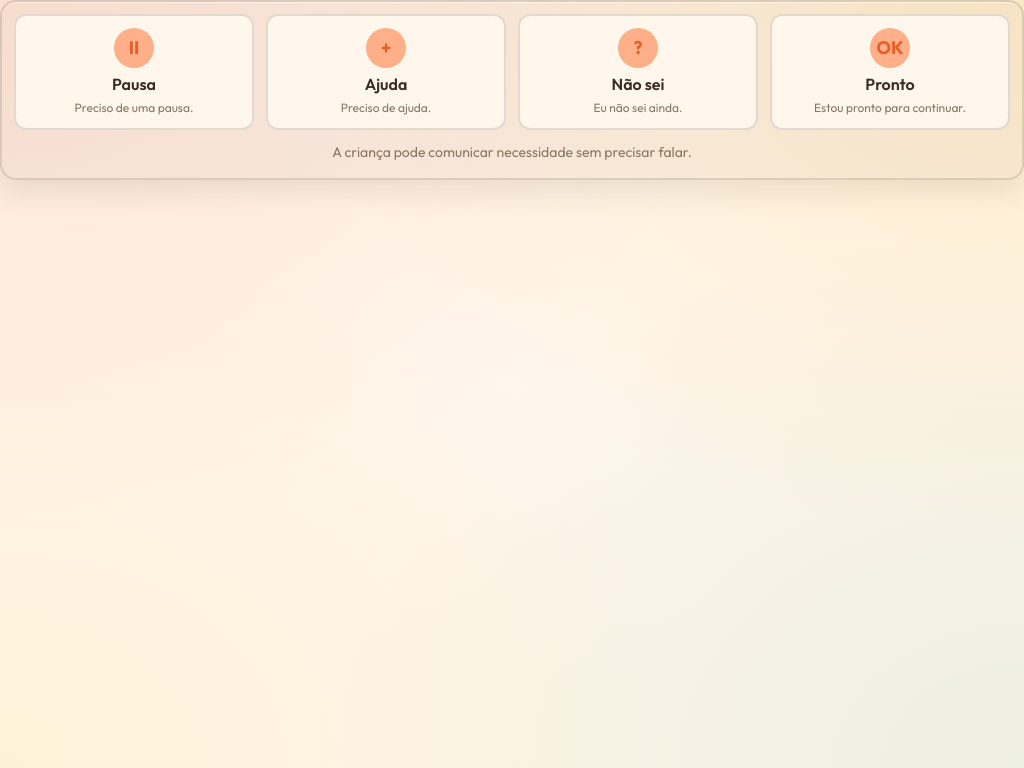
Test: PainelComunicacao › comunica prontidao sem pedir pausa nem ajuda
Click the button named "Pronto. Estou pronto para continuar." at {"x": 890, "y": 72}, box [770,14,1010,130]
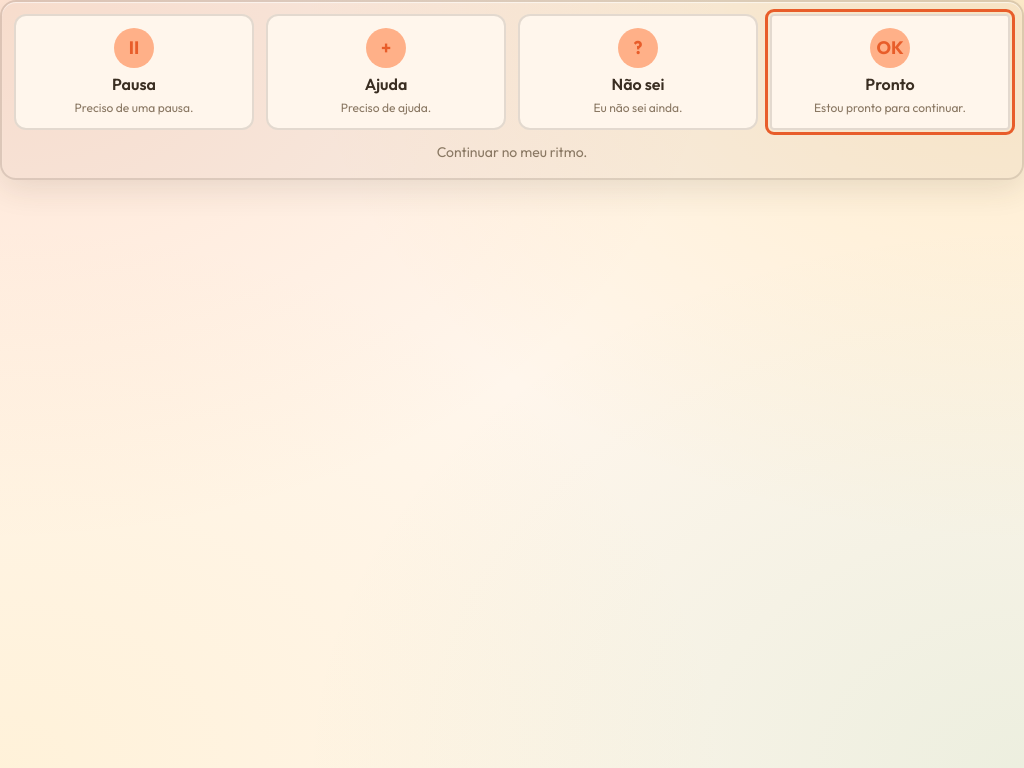
Result: the text "Continuar no meu ritmo." is shown at [437,143,587,161]
